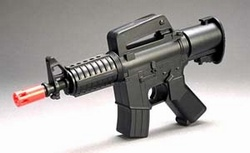rifle: (12, 12, 234, 136)
